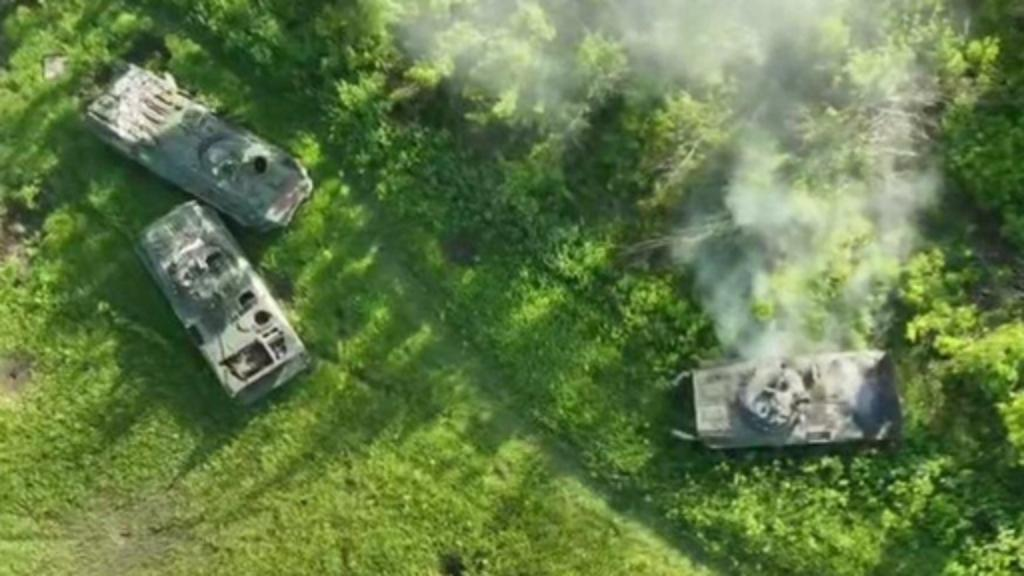APC-IFV: (82, 66, 316, 236), (118, 206, 310, 412), (678, 342, 906, 458)
